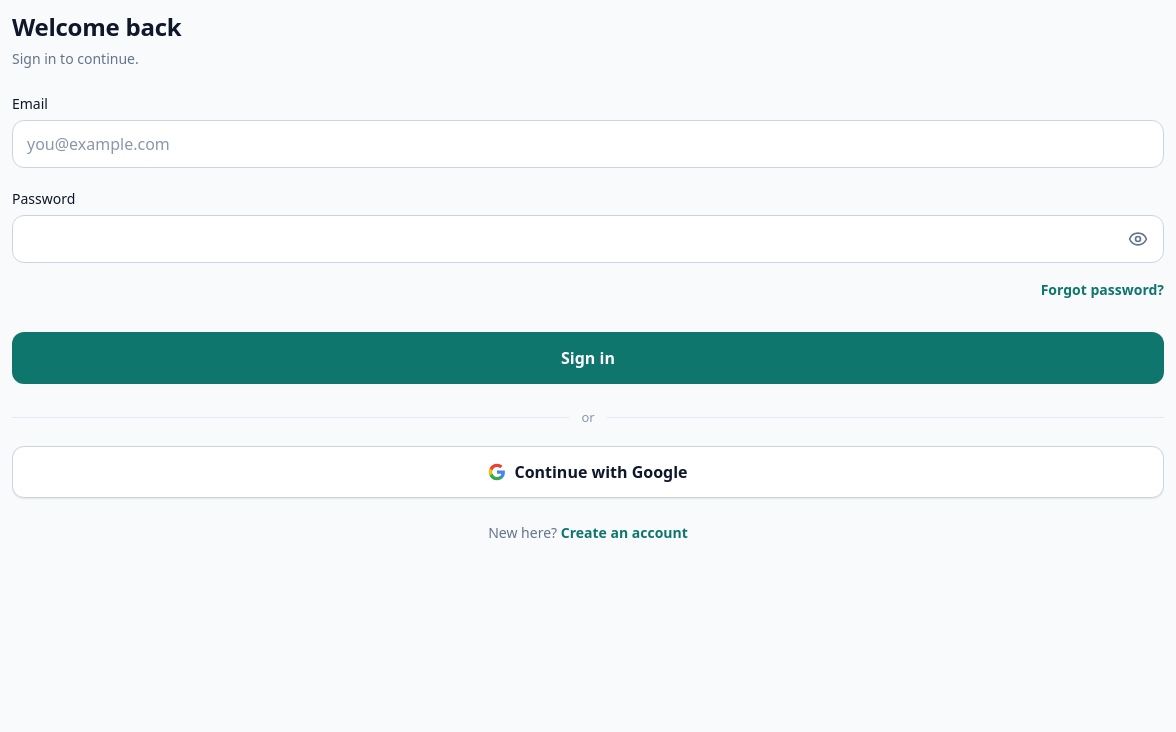
Scenario: sign-in with two-factor › shows a friendly message for a wrong code and lets the person retry
In the field labelled "Email": (588, 144) x1=12 y1=120 x2=1164 y2=168, type "alex@example.com"
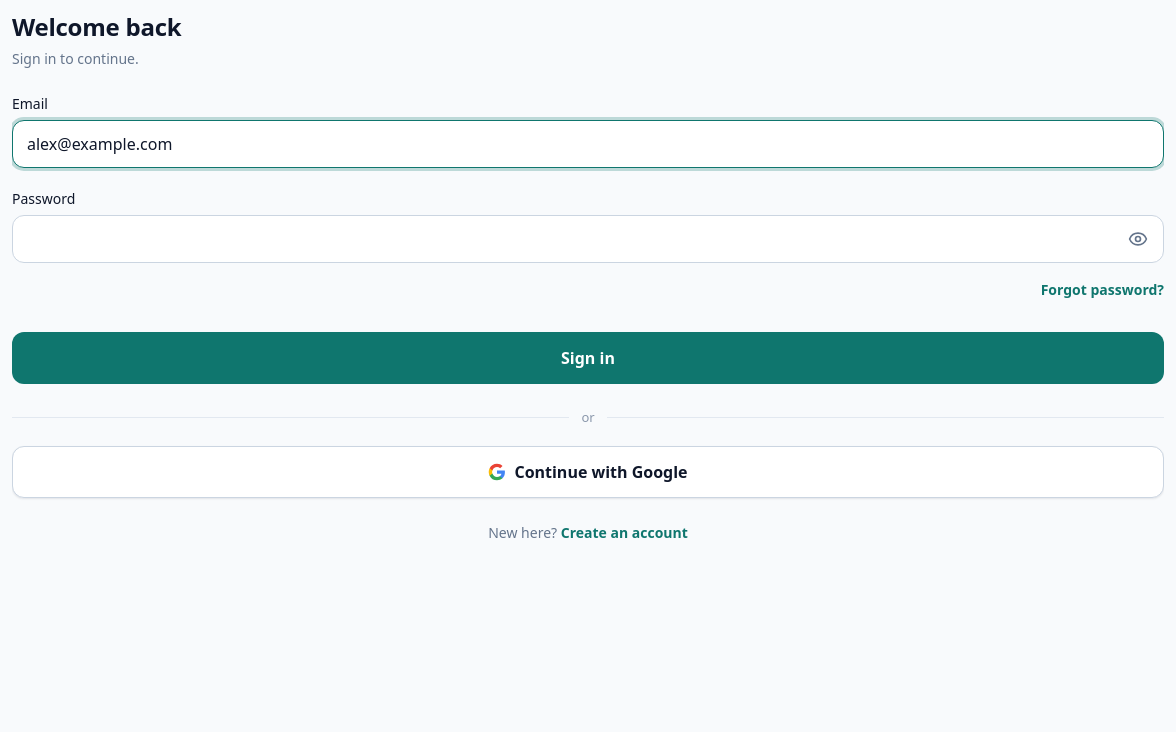
In the password field labelled "Password": (588, 239) x1=12 y1=215 x2=1164 y2=263, type "calm-river-sunrise-42"
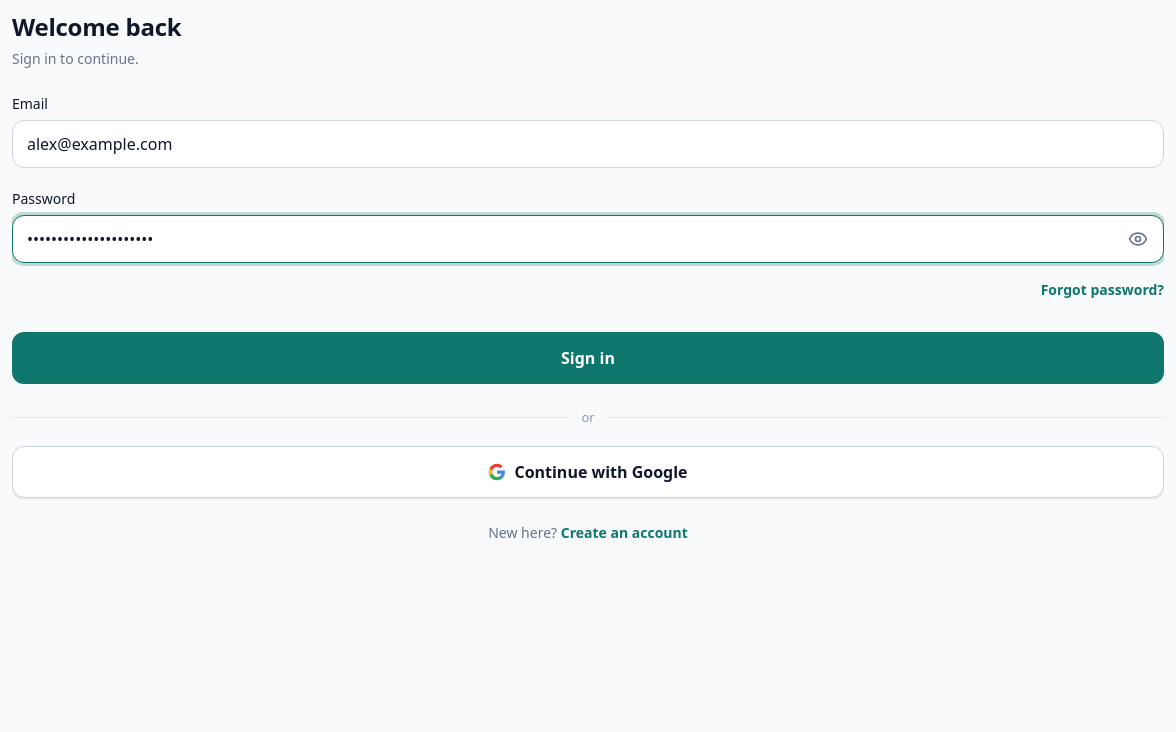
Click the button "Sign in": (588, 358) x1=12 y1=332 x2=1164 y2=384
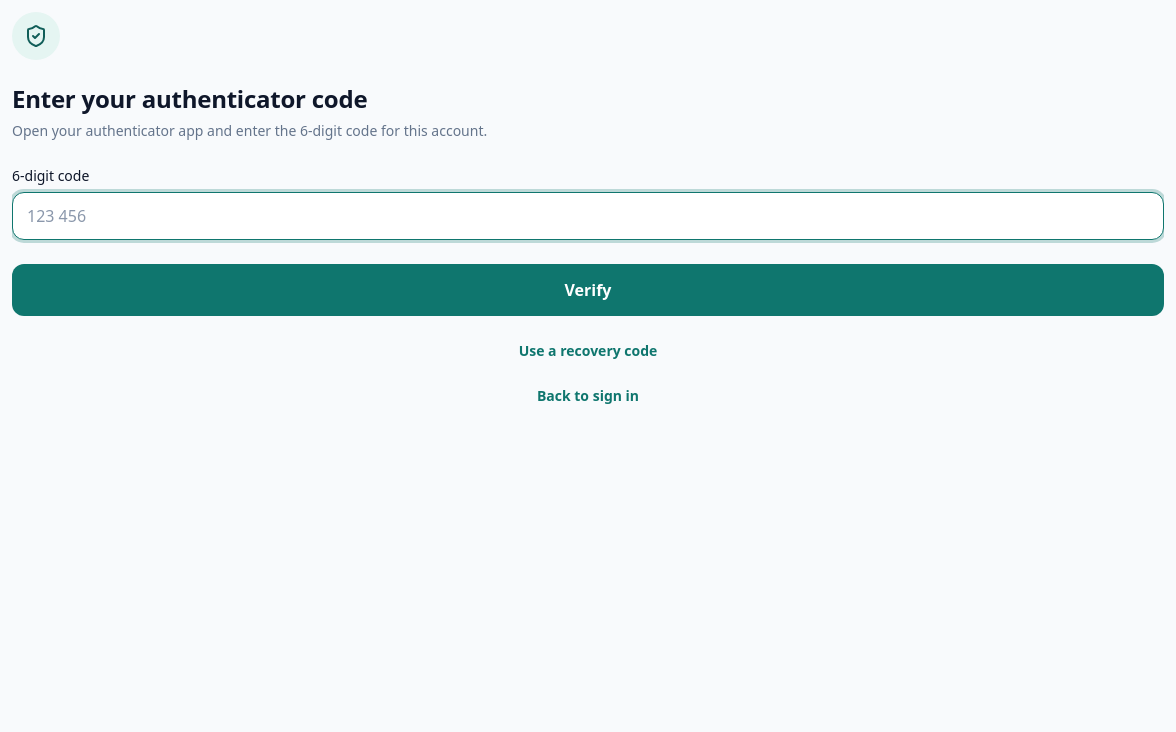
expect the heading "Enter your authenticator code" is shown: met, box x1=12 y1=82 x2=367 y2=115
In the field labelled "6-digit code": (588, 216) x1=12 y1=192 x2=1164 y2=240, type "000000"
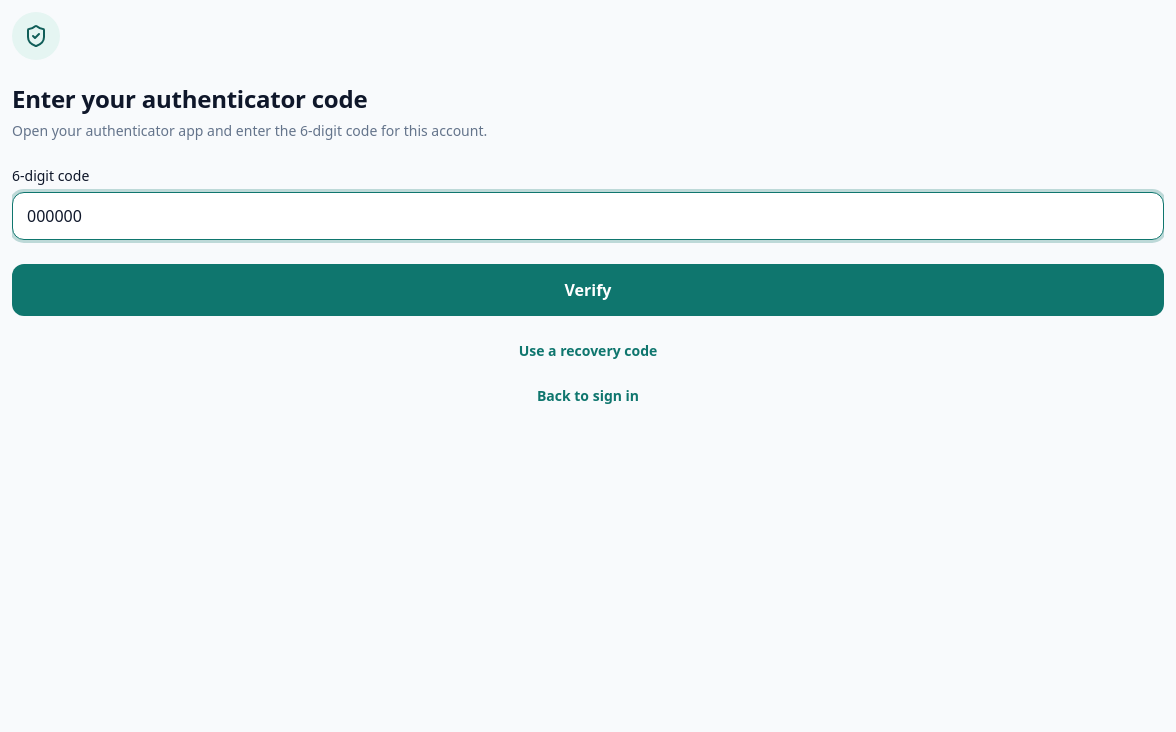
Click the button "Verify": (588, 290) x1=12 y1=264 x2=1164 y2=316
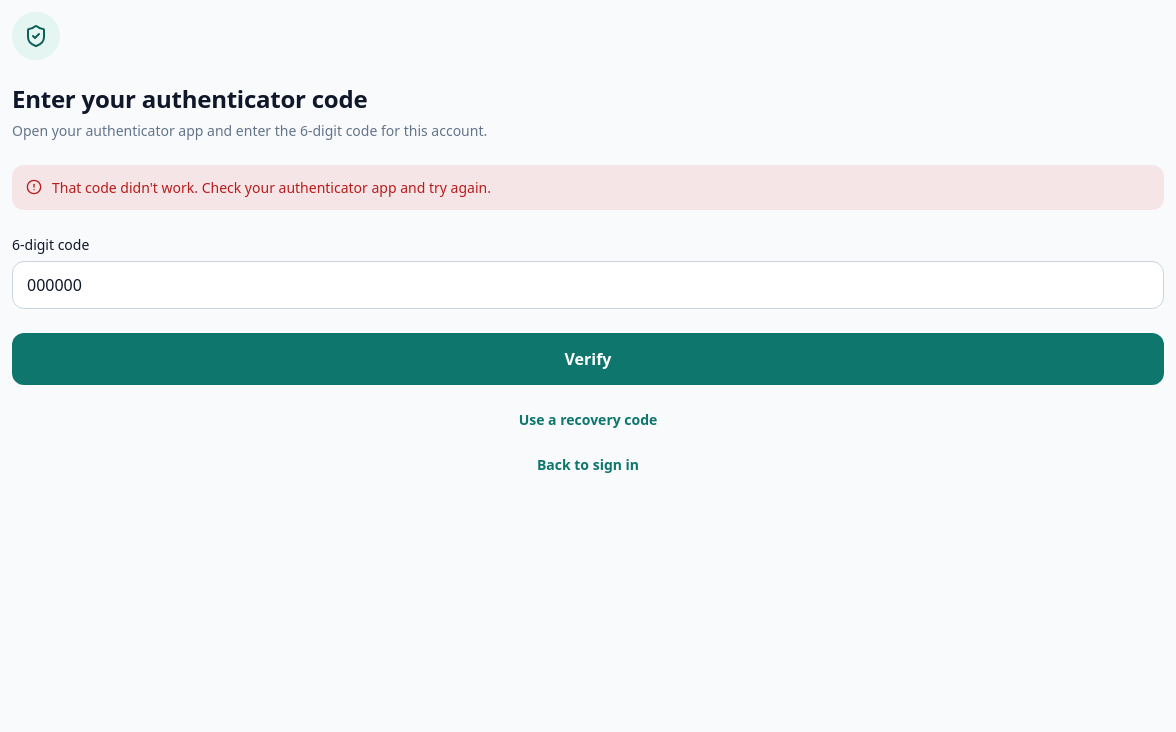
expect the message shows "That code didn't work": met, box x1=52 y1=178 x2=491 y2=197
